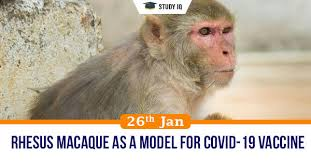monkey: (34, 10, 271, 134)
